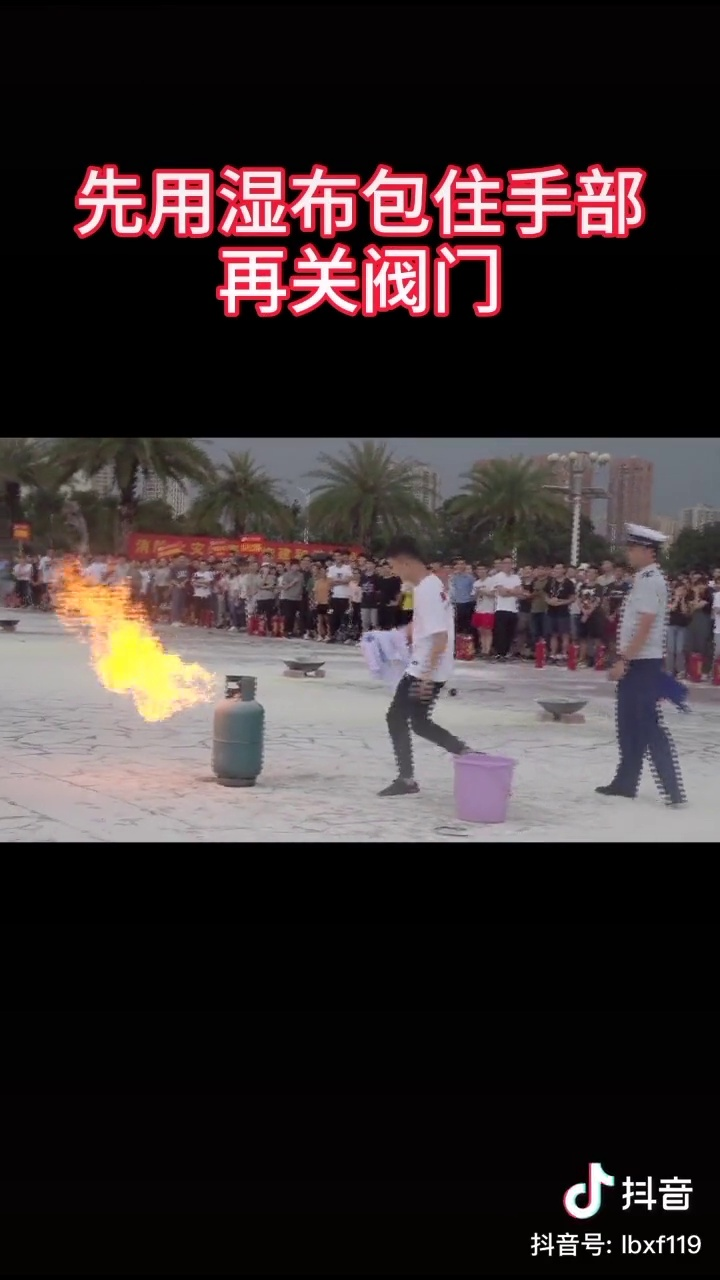fire: (45, 563, 208, 718)
